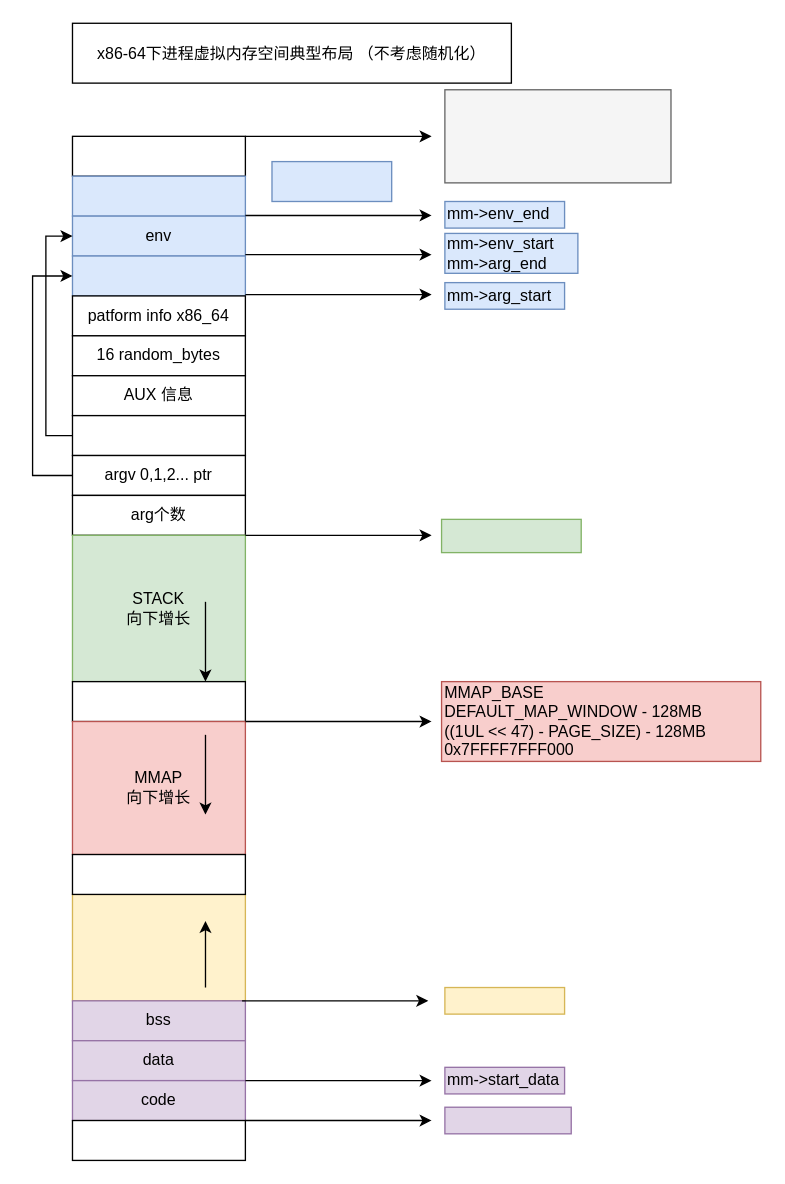
This 785x1184 diagram has some shape labels left out. Here are the shapes that lost their labels. From the top down, the centre of each, then its label:
point 557,135: STACK_TOP_MAX ((1UL << 47) - PAGE_SIZE) 0x7FFFFFFFF000
point 158,195: filename
point 331,180: 字符串+NULL 依次存储
point 158,275: argv
point 158,435: env 0,1,2 ... ptr
point 510,535: mm->start_stack
point 158,947: BRK 向上增长
point 504,1000: mm->start_brk
point 507,1120: mm->start_code
